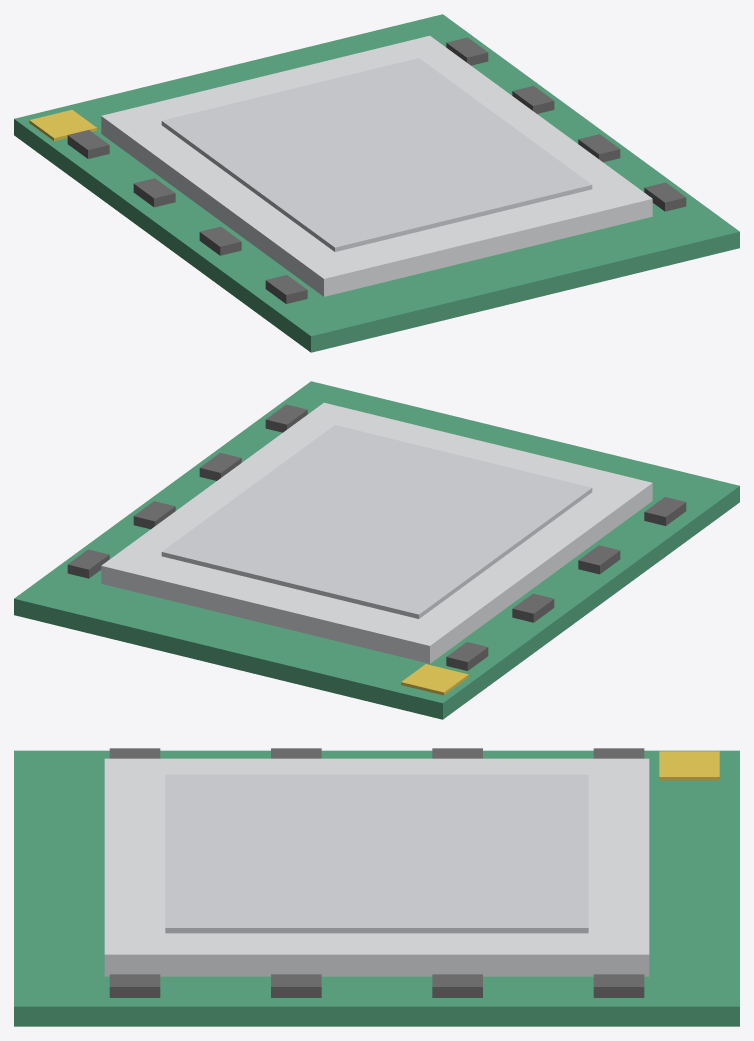
File: cpu.glb
3 views of the same model, one above another, from view 1: azimuth 30°, elevation 25°; view 2: azimuth 150°, elevation 25°; view 3: azimuth 270°, elevation 25° (orthographic). The views are drawn at different scales.
Visible parts, largest first — view 1: c1b6b3c, cb4b8c1, ccfd2d8, c2b2b2b, cd4a017; view 2: c1b6b3c, cb4b8c1, ccfd2d8, c2b2b2b, cd4a017; view 3: c1b6b3c, cb4b8c1, ccfd2d8, c2b2b2b, cd4a017.
Part boxes in pixels (x1,y1,x2,y2): c1b6b3c: (14,14,739,352); cb4b8c1: (161,58,592,251); ccfd2d8: (101,35,652,296); c2b2b2b: (67,37,686,303); cd4a017: (29,110,96,141); c1b6b3c: (14,381,739,719); cb4b8c1: (161,425,592,618); ccfd2d8: (101,402,652,663); c2b2b2b: (67,404,686,670); cd4a017: (401,664,468,695); c1b6b3c: (14,750,739,1026); cb4b8c1: (165,774,588,933); ccfd2d8: (104,758,649,976); c2b2b2b: (109,748,644,997); cd4a017: (659,751,719,780).
Bounding box in the file's own units: 60 × 5.2 × 72.
